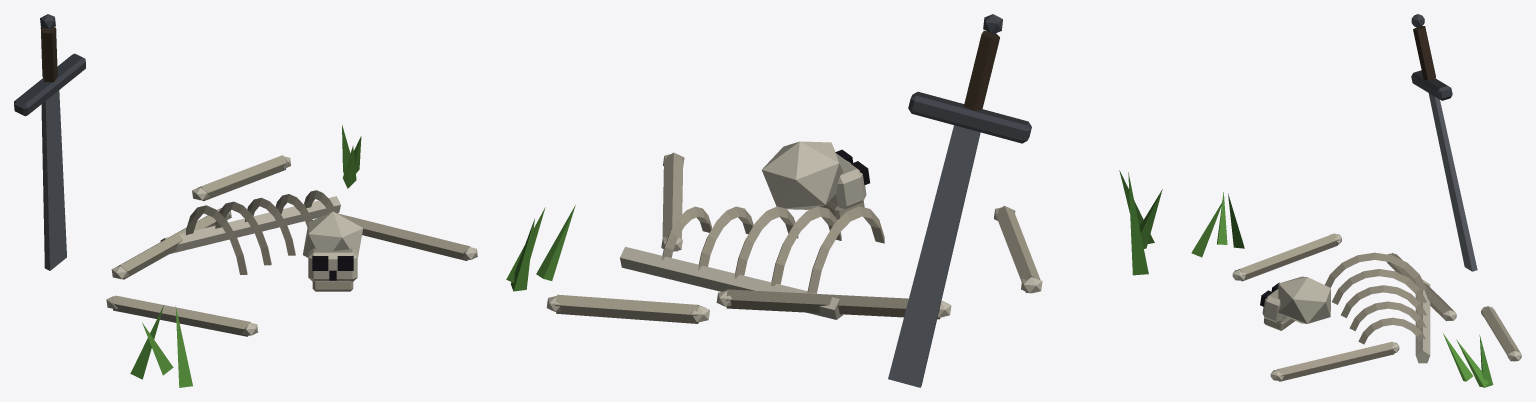
The model's file is bones.glb.
The picture shows the model from 3 angles, left to right: view 1: azimuth 30°, elevation 25°; view 2: azimuth 150°, elevation 25°; view 3: azimuth 270°, elevation 25°; orthographic projection. The views are drawn at different scales.
Parts seen in each view (by area): view 1: Bones; view 2: Bones; view 3: Bones.
Boxes of the visible parts, <box> form: Bones: <box>14,14,477,387</box>; Bones: <box>506,14,1162,387</box>; Bones: <box>1191,14,1521,387</box>.
Bounding box in the file's own units: 0.978 × 0.7093 × 0.8649.
